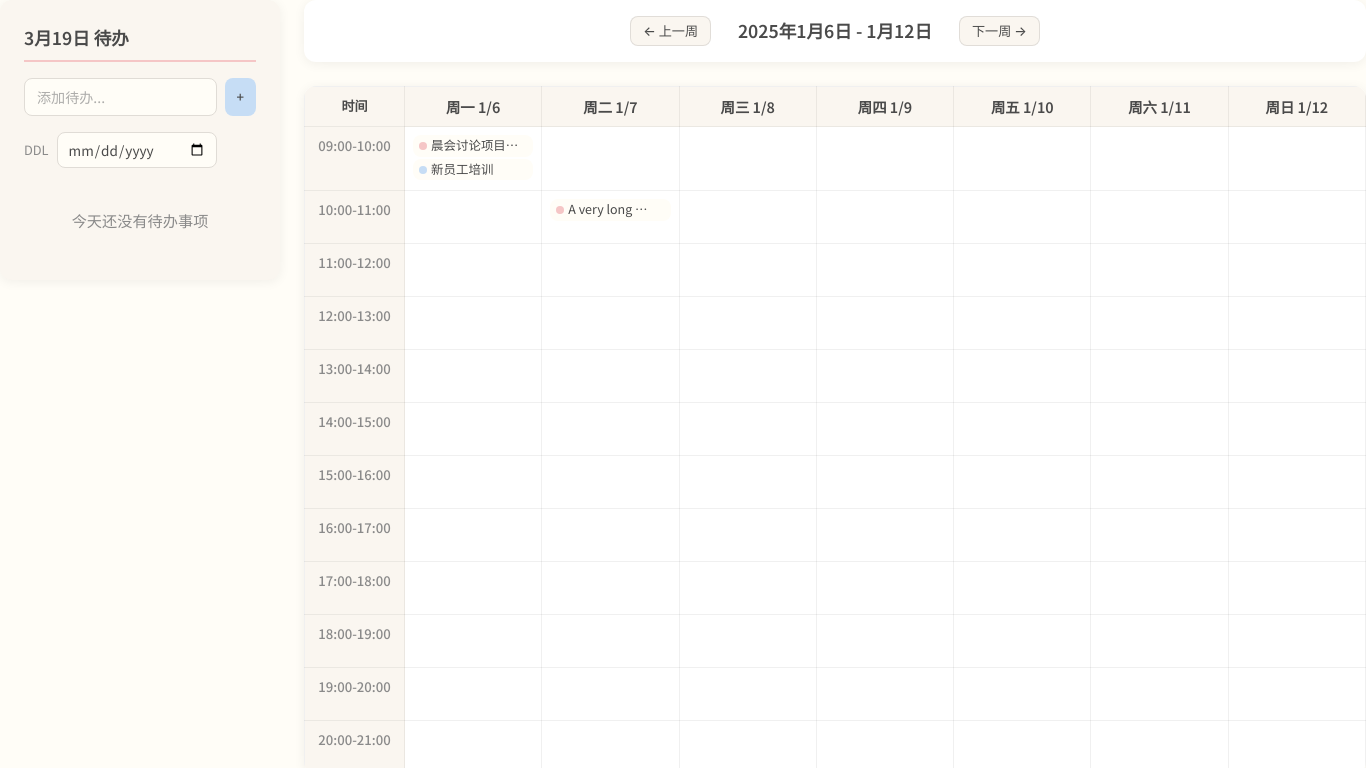
Scenario: CalendarPage › can close the selected cell modal
Check: the column heading "周一 1/6" is shown, box [404,87,542,127]
Click the cell named "2025-01-06 09:00-10:00": point(473, 159) [404,127,542,191]
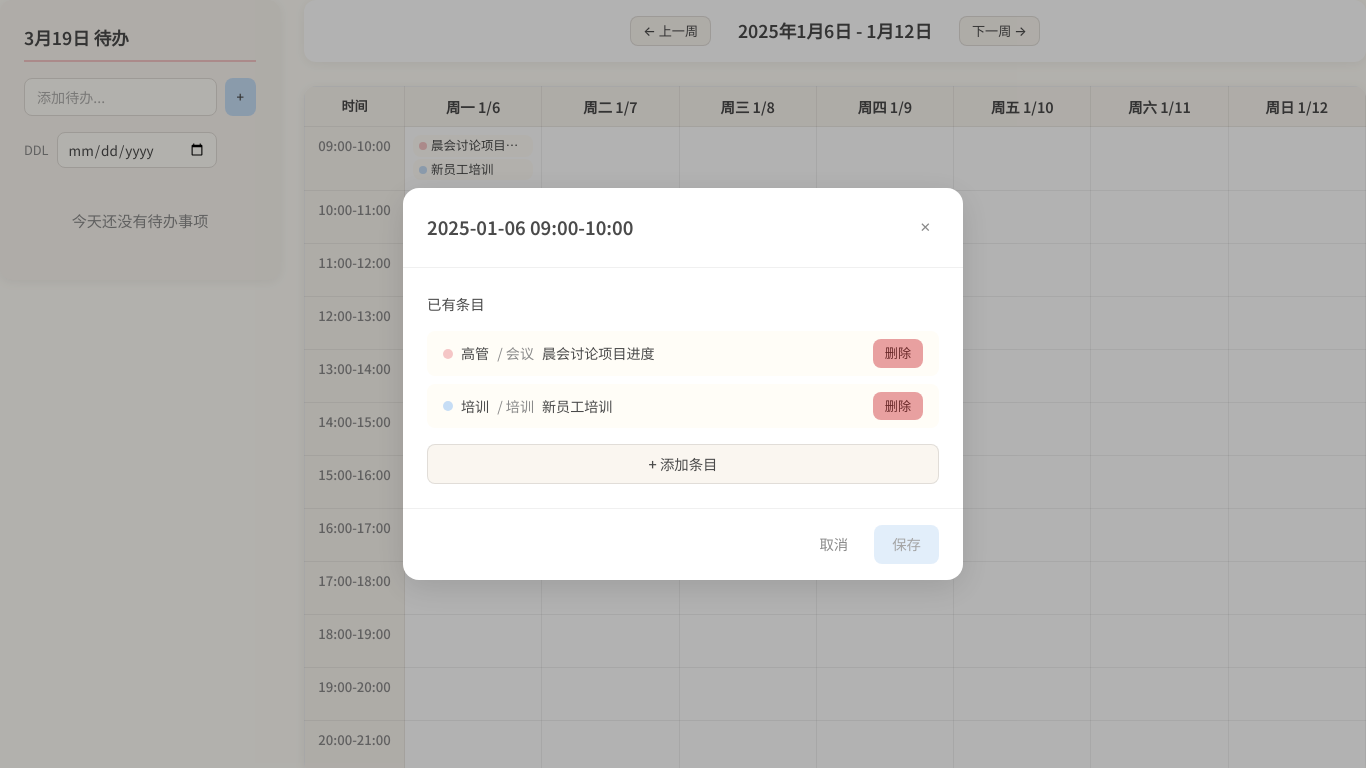
Check: the heading "2025-01-06 09:00-10:00" is shown, box [427,213,633,243]
Click the button "取消": point(834, 544) [801,525,866,564]
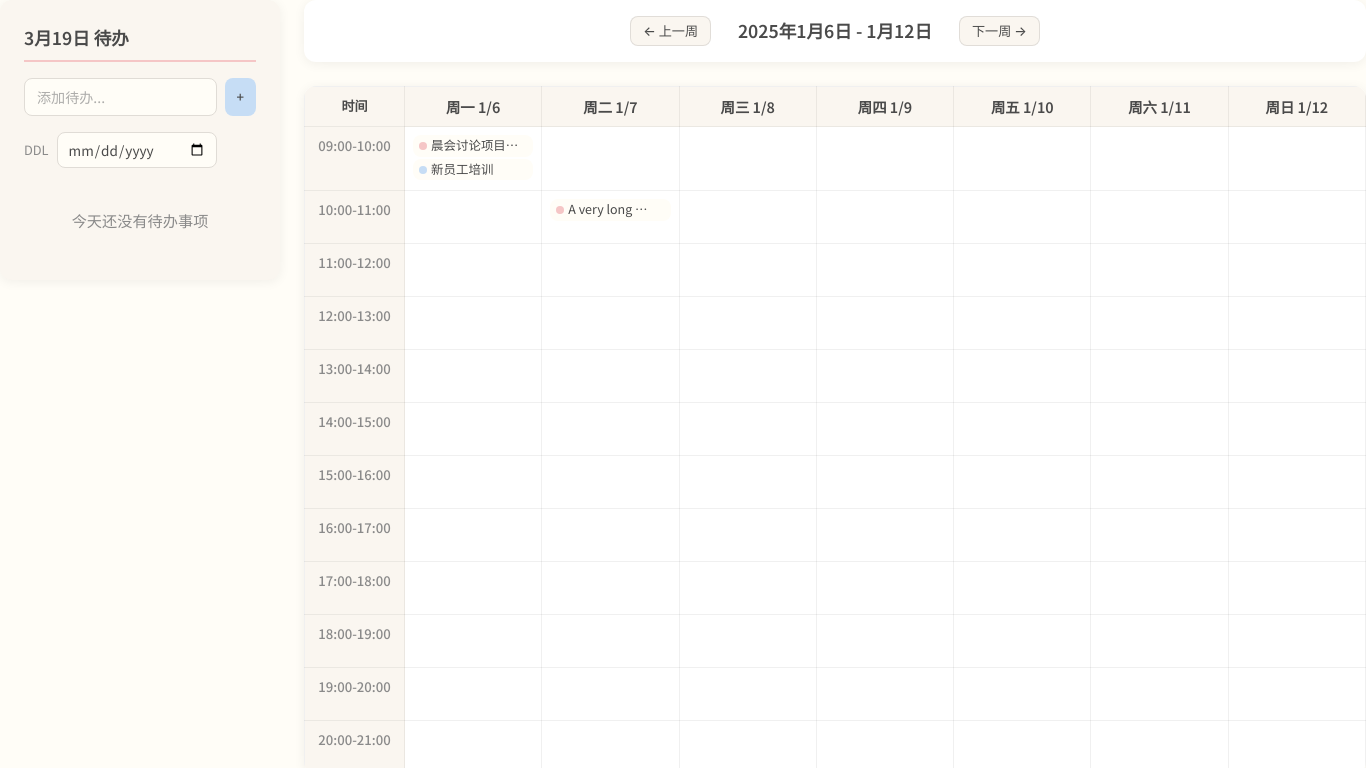
Check: the heading "2025-01-06 09:00-10:00" is gone
